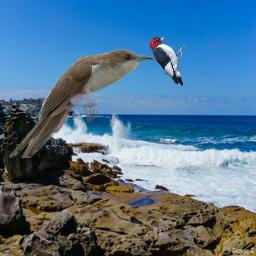Cuckoo: (9, 49, 154, 158)
Woodpecker: (149, 36, 187, 86)
